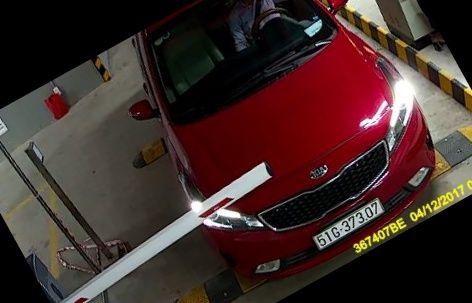plate: (297, 183, 385, 251)
